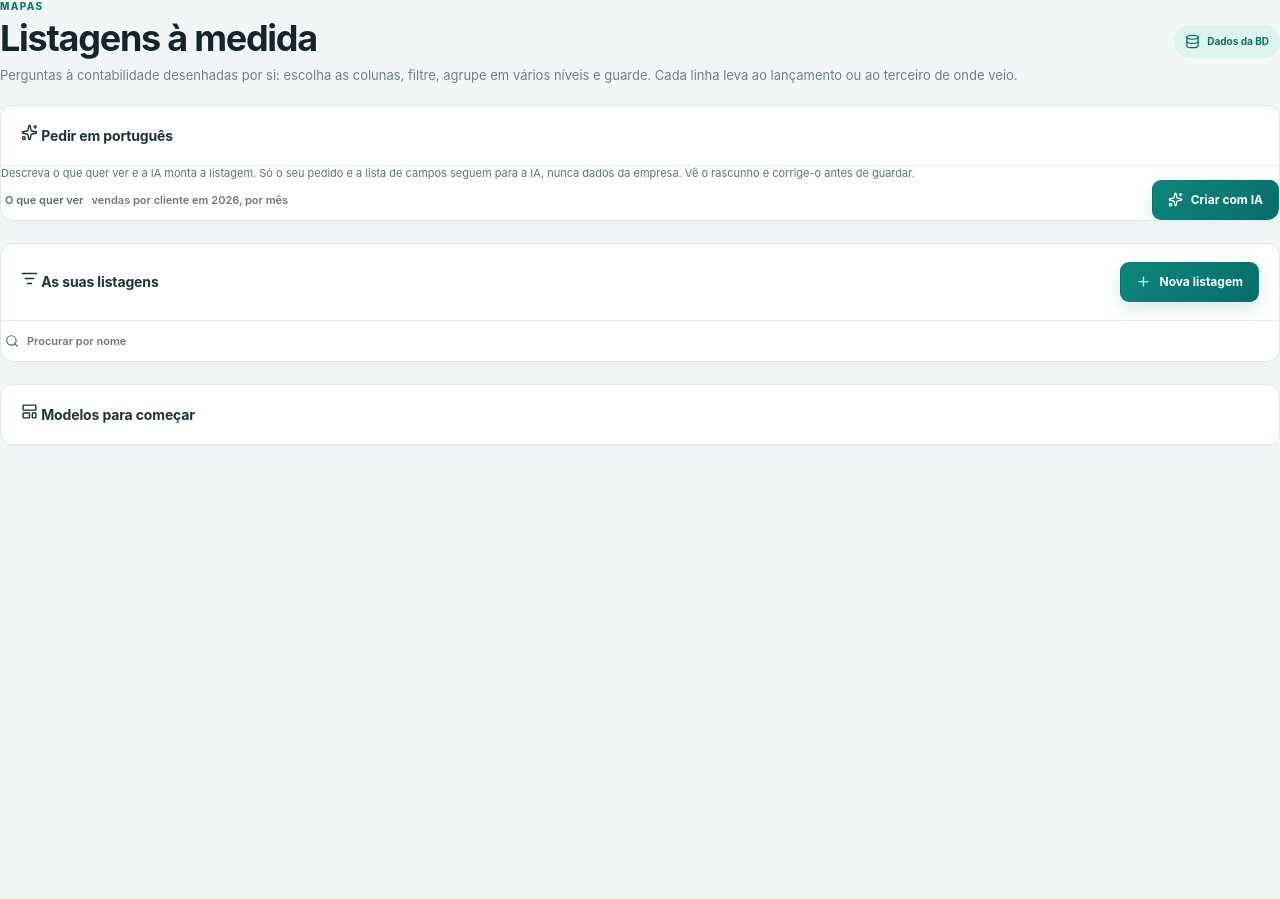
Scenario: listagens à medida › pede uma listagem em português e abre o rascunho no desenhador, sem guardar
Type "compras por lançar" into the field labelled "O que quer ver" at (260, 200), box [90,192,430,208]
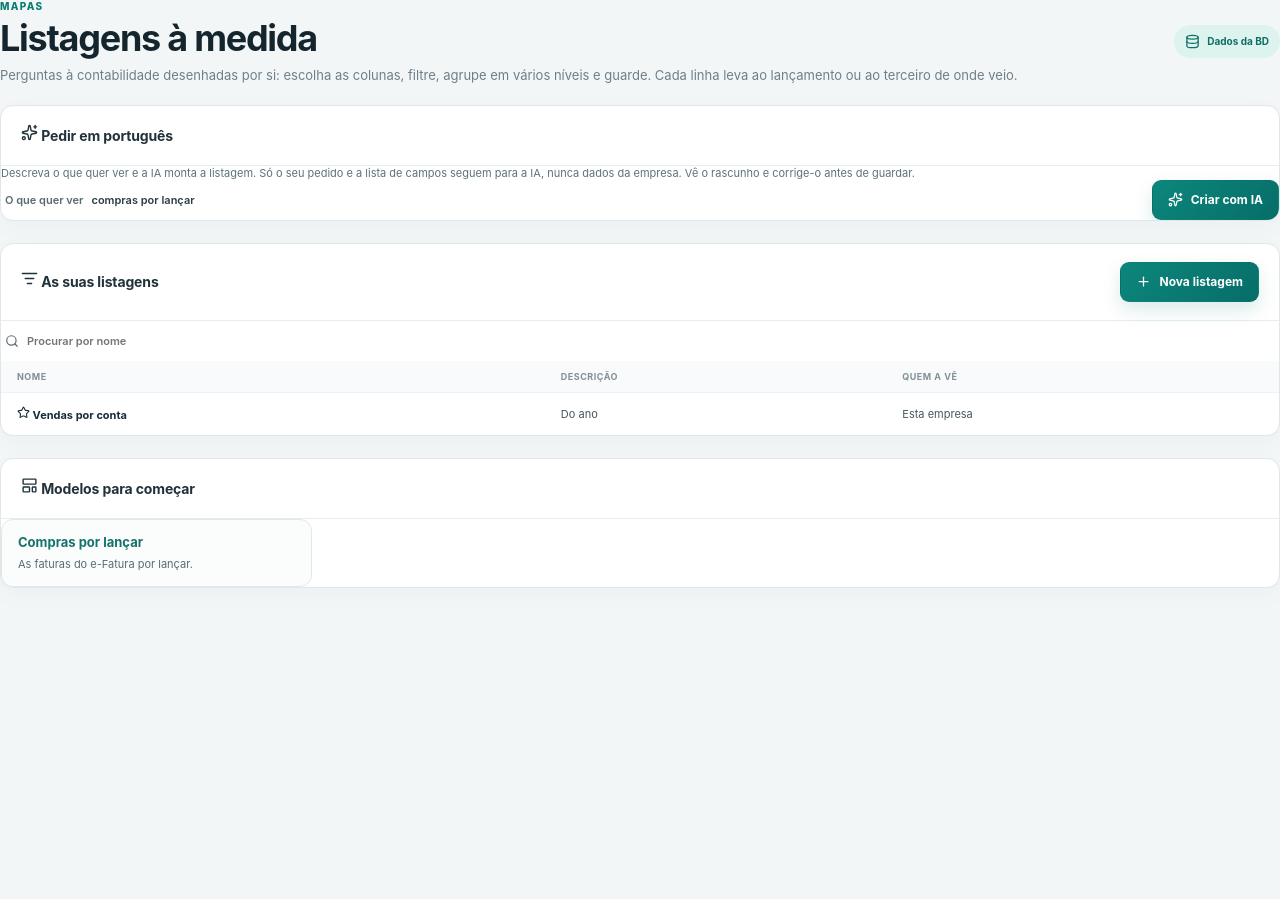
Click the button "Criar com IA" at (1215, 200), box [1152,180,1279,220]
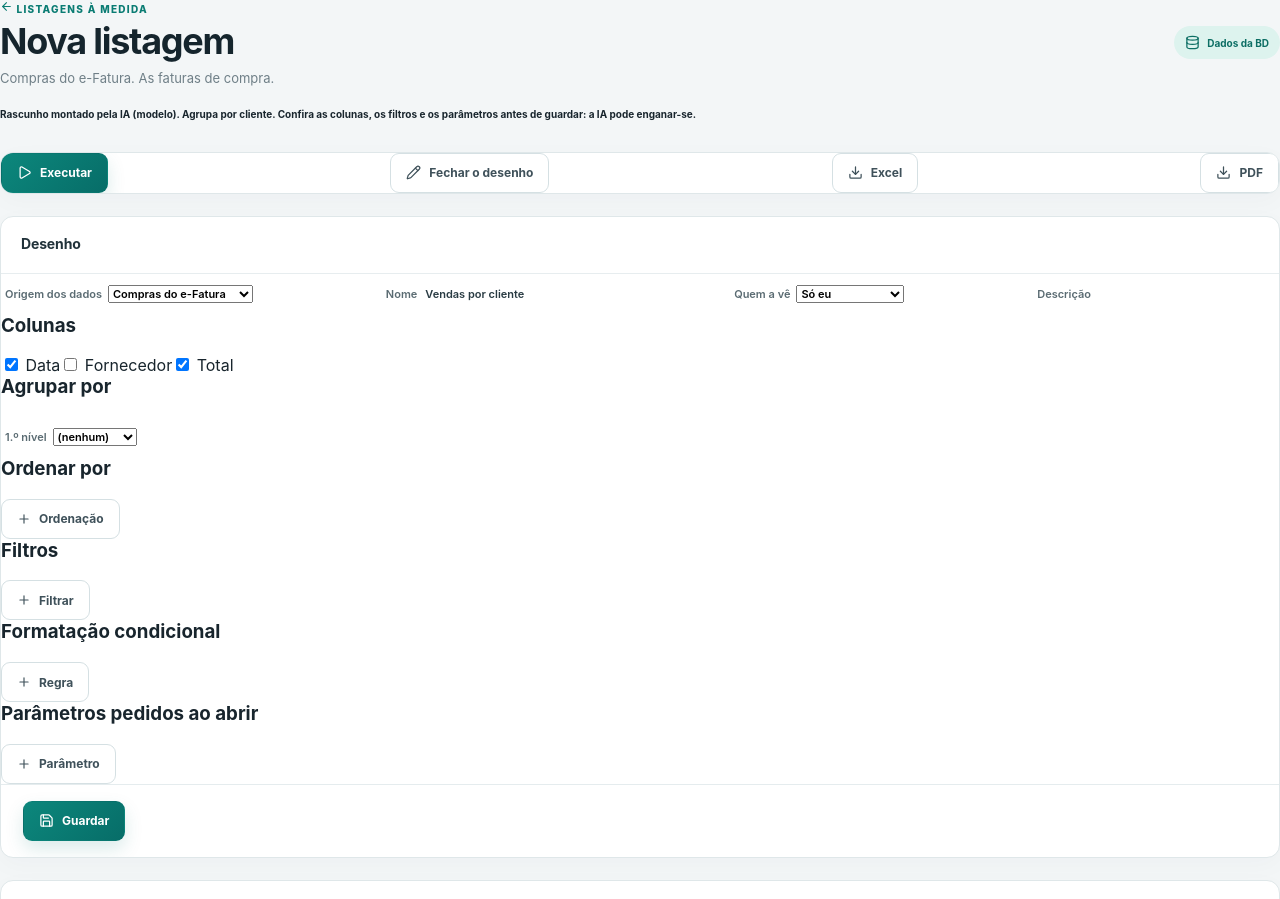
Check: the field named "Nome da listagem" holds "Vendas por cliente", box [423,286,601,302]
Check: the text "Confira as colunas" is shown, box [275,108,696,120]
